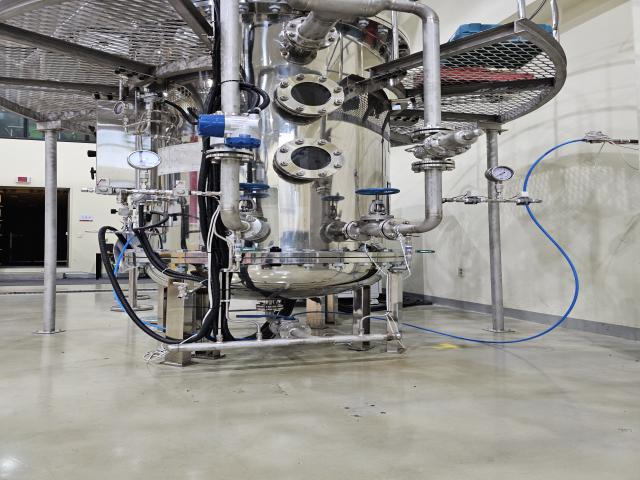Flange: (272, 72, 347, 118), (274, 138, 348, 182)
Flush Ring: (282, 16, 342, 50), (226, 213, 267, 240), (200, 148, 262, 162), (380, 219, 415, 240), (279, 322, 316, 340), (408, 126, 462, 138), (408, 160, 461, 172), (345, 220, 373, 242)
GasRegulator: (110, 83, 192, 143)
Nuts: (509, 195, 546, 209), (90, 184, 122, 196), (168, 186, 195, 200), (458, 195, 488, 207)
Piston Valve: (354, 180, 402, 221), (239, 180, 273, 216)
Pressure Gage: (124, 147, 167, 189), (481, 163, 517, 197)
